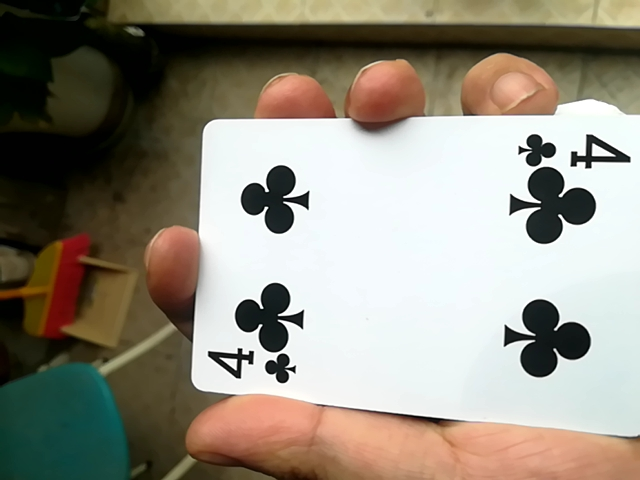mh 4: (168, 112, 637, 440)
